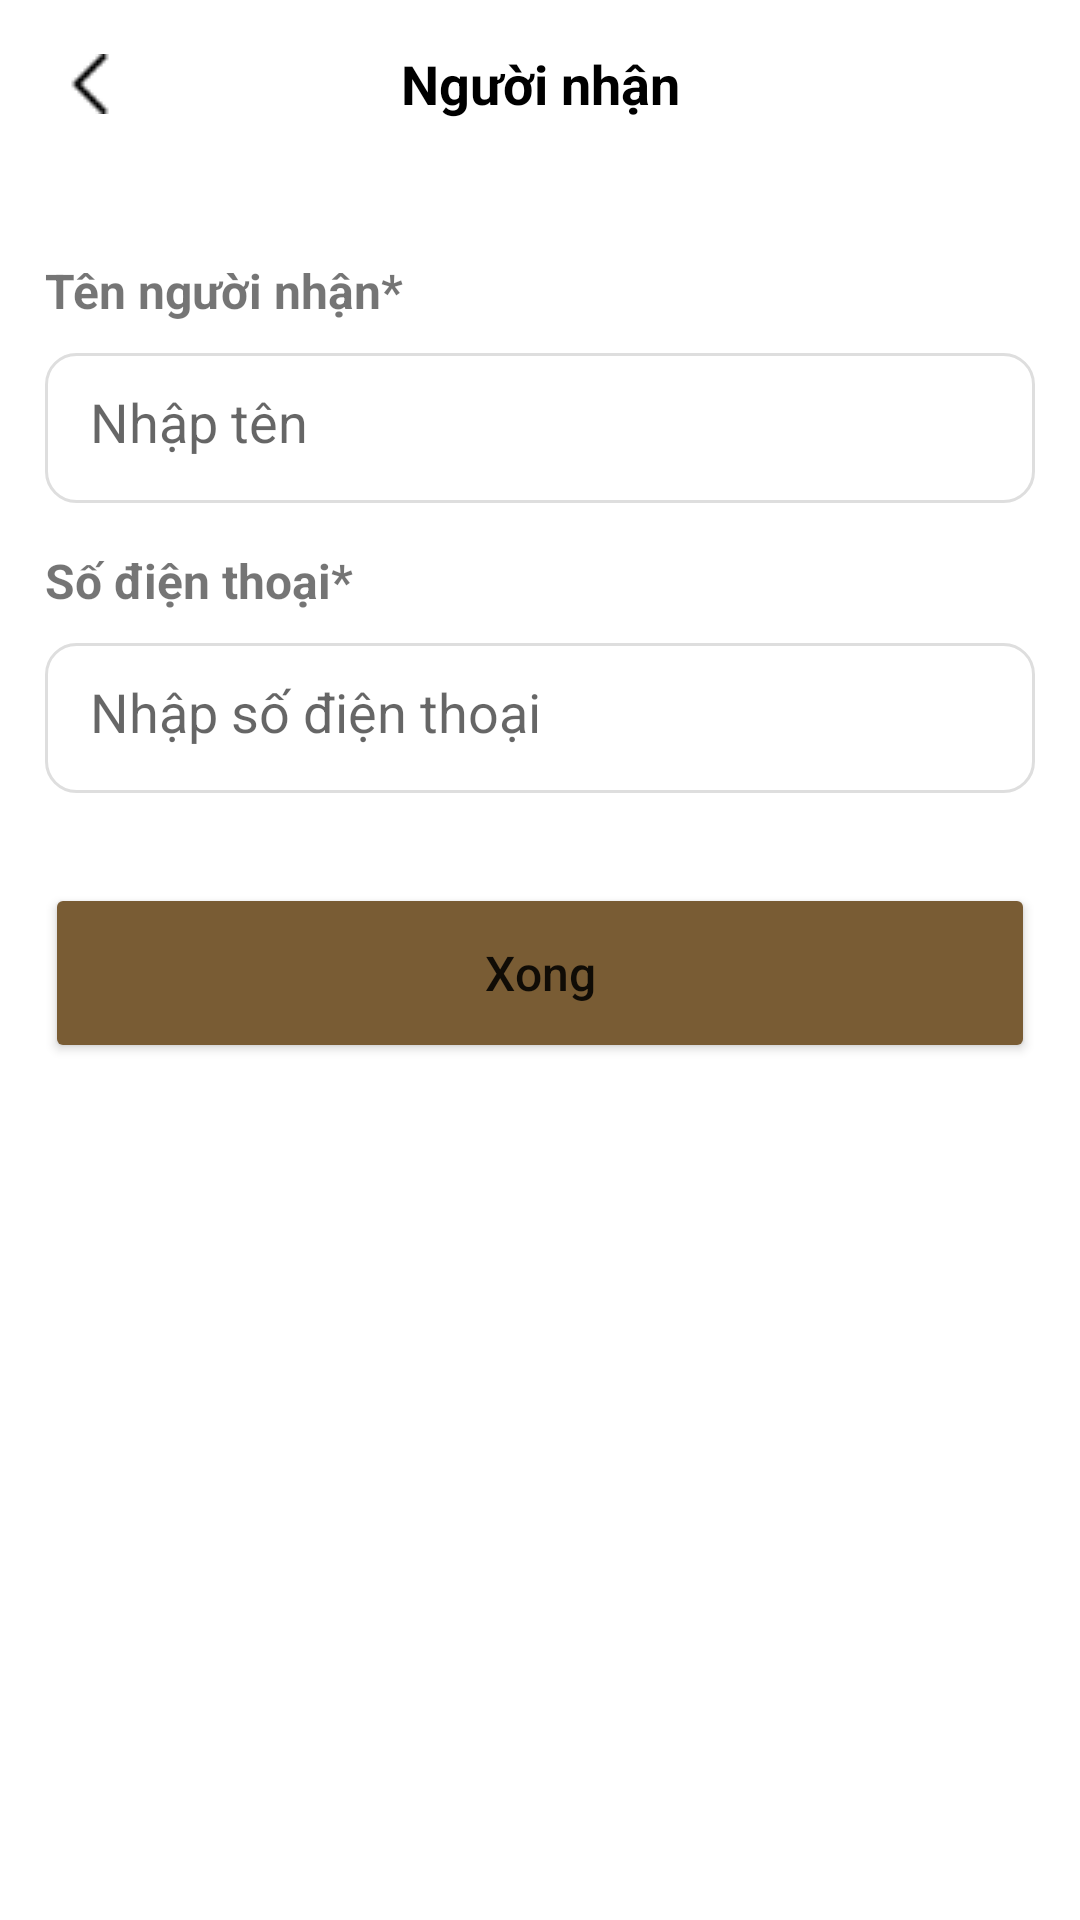

Where to tap for icons on this 1080w x 1920h app screen, as (x,y):
back: (90,84)
